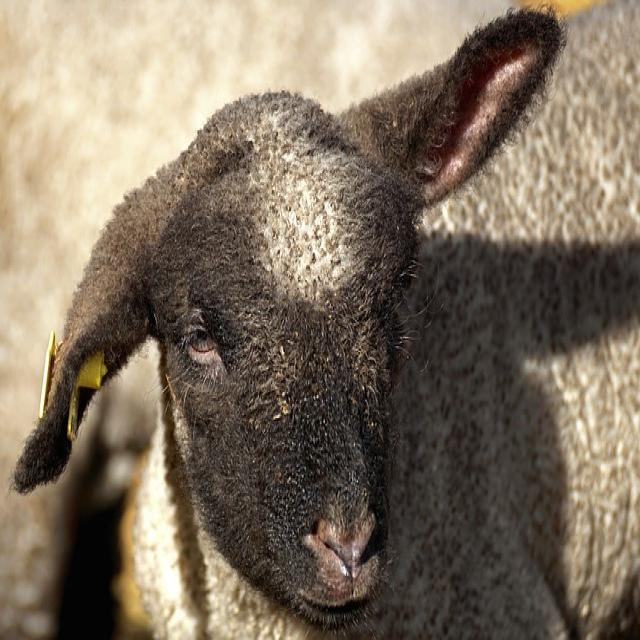goat: (15, 0, 640, 640)
